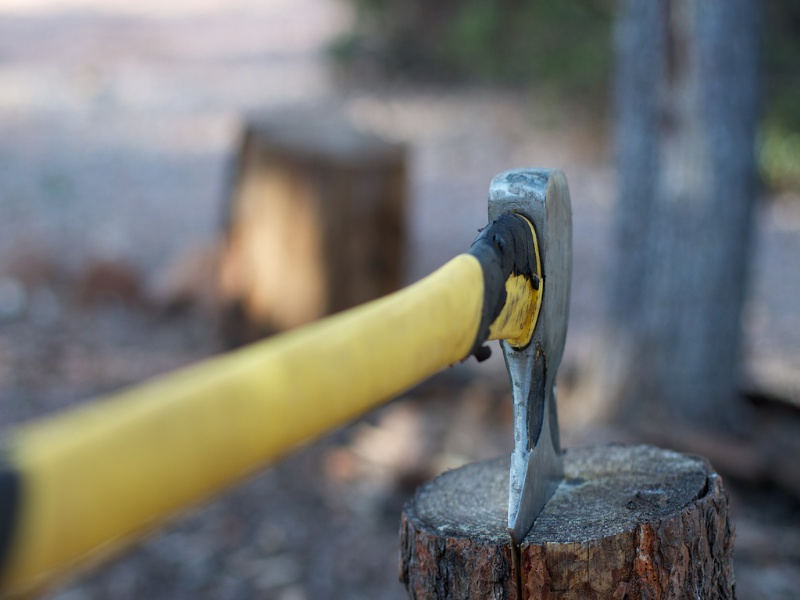axe: (407, 158, 585, 560)
